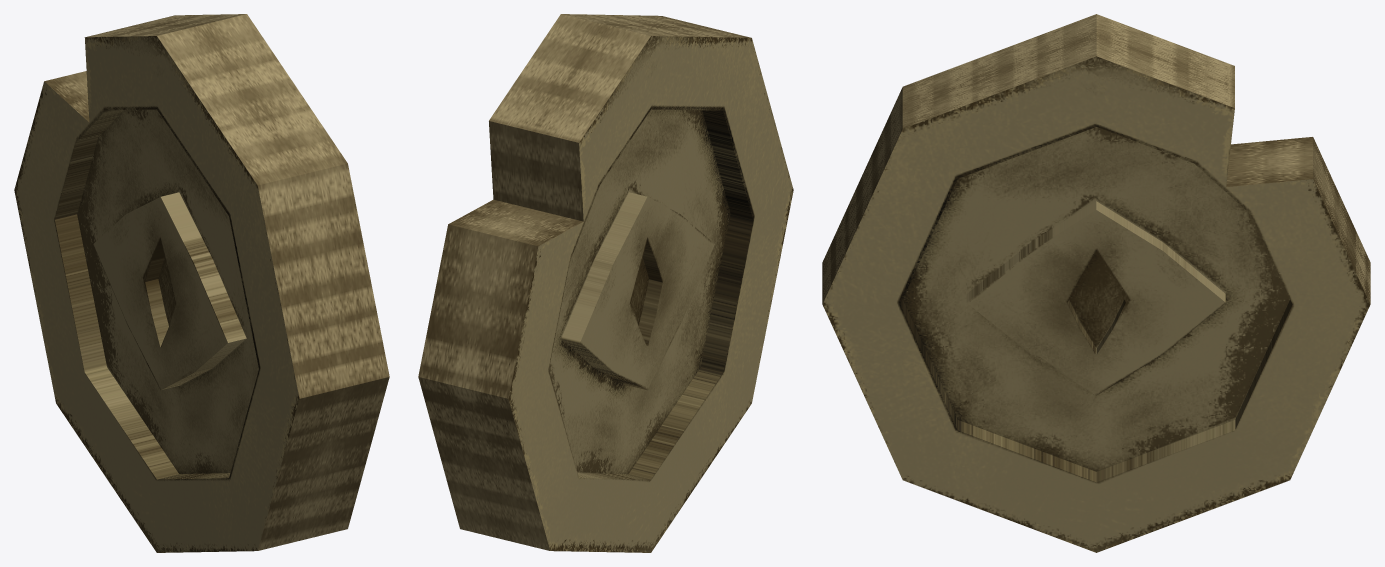
The model's file is Coin.fbx.
The picture shows the model from 3 angles, left to right: view 1: azimuth 30°, elevation 25°; view 2: azimuth 150°, elevation 25°; view 3: azimuth 270°, elevation 25°; orthographic projection. The views are drawn at different scales.
Parts seen in each view (by area): view 1: Cylinder.001; view 2: Cylinder.001; view 3: Cylinder.001.
Boxes of the visible parts, bbox=[...] form: Cylinder.001: bbox=[14, 14, 389, 552]; Cylinder.001: bbox=[418, 14, 793, 552]; Cylinder.001: bbox=[822, 14, 1370, 552].
Size of the model in its own units: 24.12 by 132 by 132.
